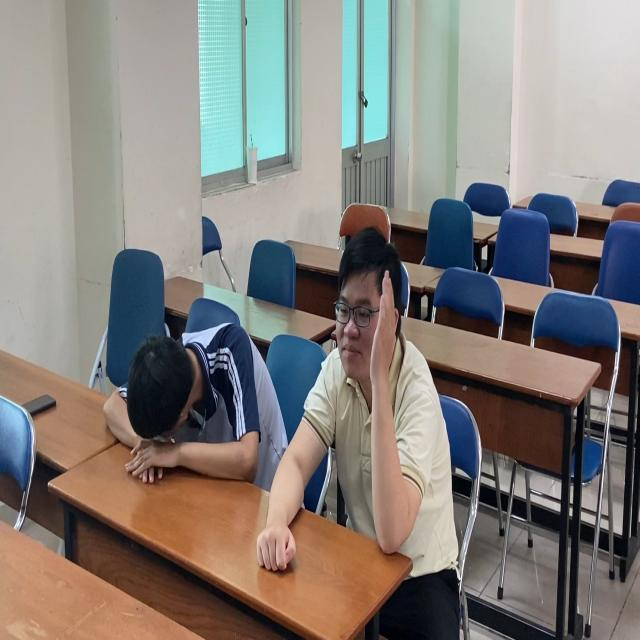raise_hand: (329, 223, 438, 611)
sleep: (102, 321, 268, 488)
